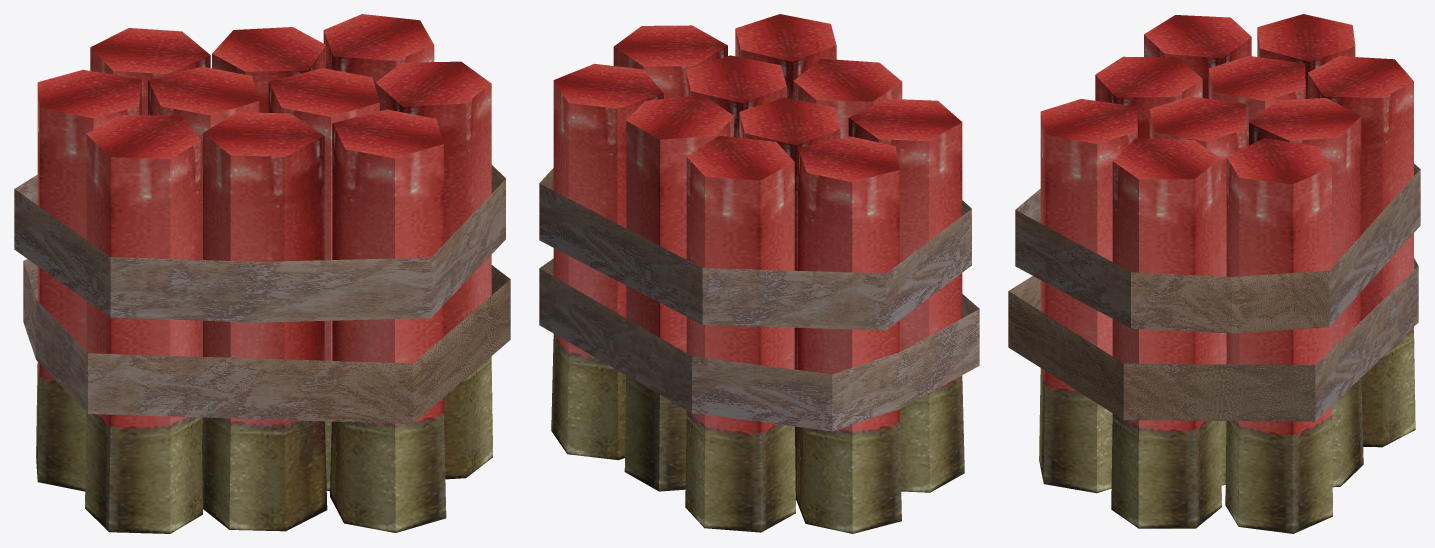
File: shotgunbundle.glb
3 views of the same model, side by side, from view 1: azimuth 30°, elevation 25°; view 2: azimuth 150°, elevation 25°; view 3: azimuth 270°, elevation 25° (orthographic). The views are drawn at different scales.
Visible parts, largest first — view 1: Shotgun bundle; view 2: Shotgun bundle; view 3: Shotgun bundle.
Boxes of the visible parts, x1,y1,x2,y2 form: Shotgun bundle: [14, 14, 510, 533]; Shotgun bundle: [539, 14, 979, 533]; Shotgun bundle: [1008, 14, 1420, 533].
Size of the model in its own units: 0.2204 by 0.1955 by 0.2095.
Materials: 2 (2 with a texture image).
